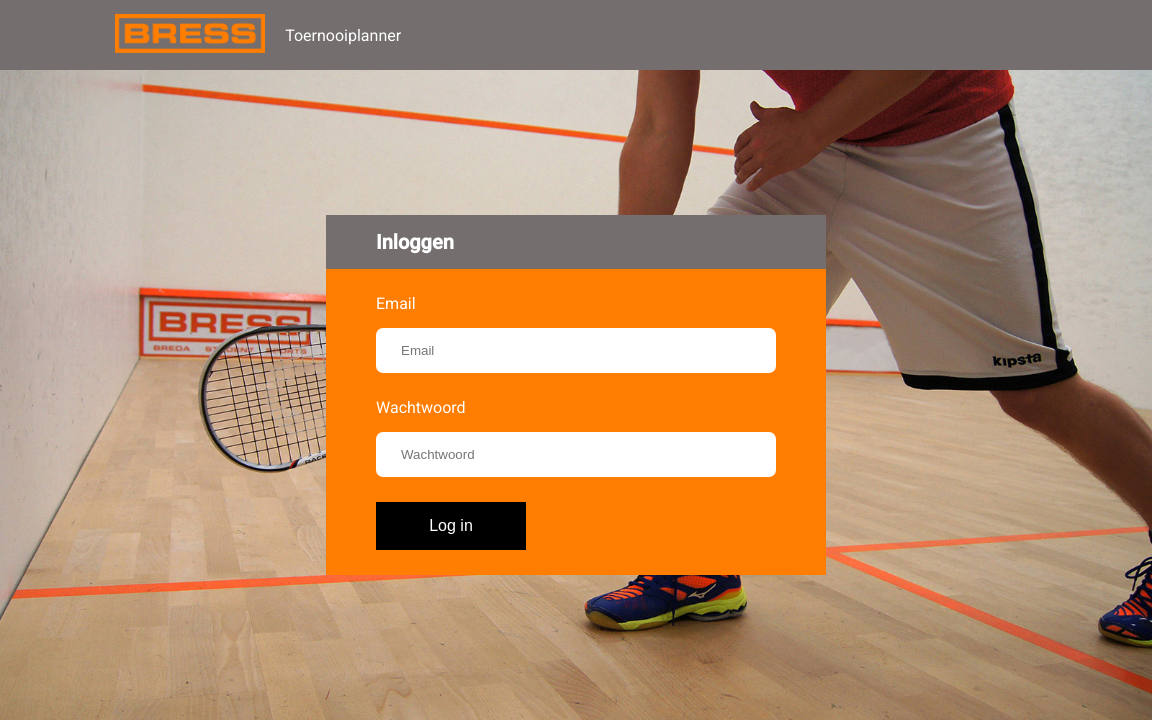
Test: Login test › should get an error on a missing password
The image size is (1152, 720).
Type "j.doe@email.nl" into the field with placeholder "Email". click: (576, 351)
box: [376,328,776,373]
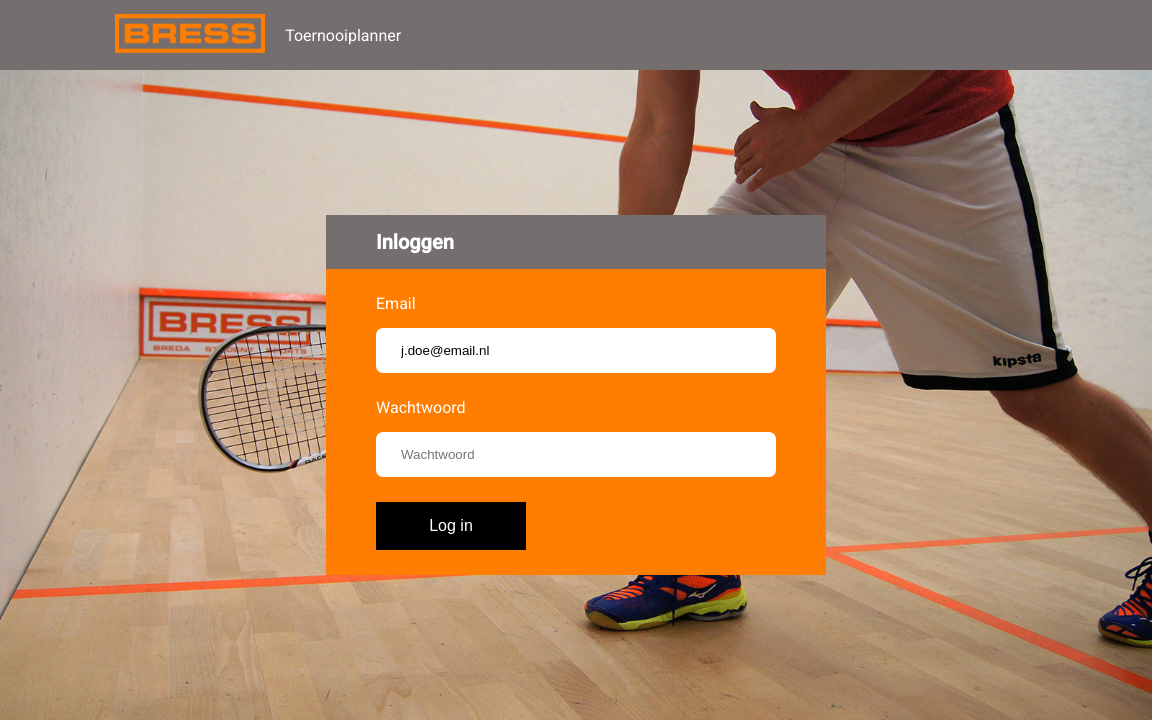
Click the button "Log in". click: (451, 526)
box: [376,502,526,550]
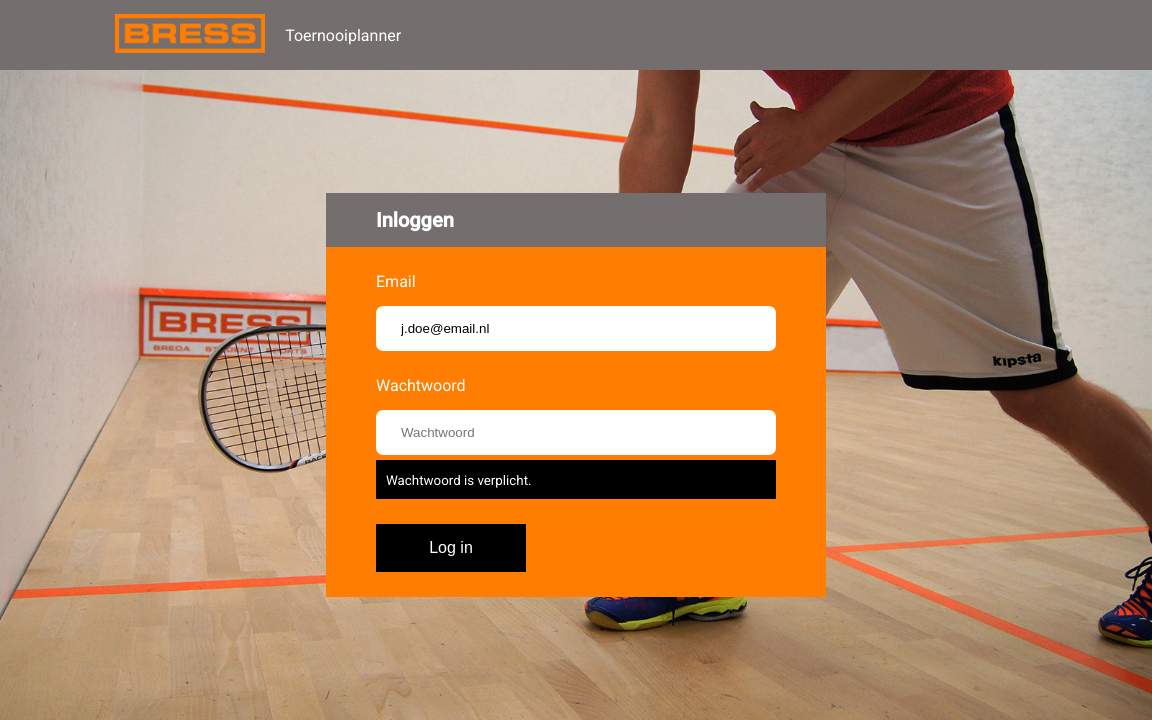
Now the text "Wachtwoord is verplicht." is shown, box [386,473,532,488]
